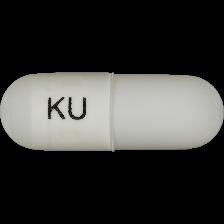54868-6085: (0, 0, 224, 224)
